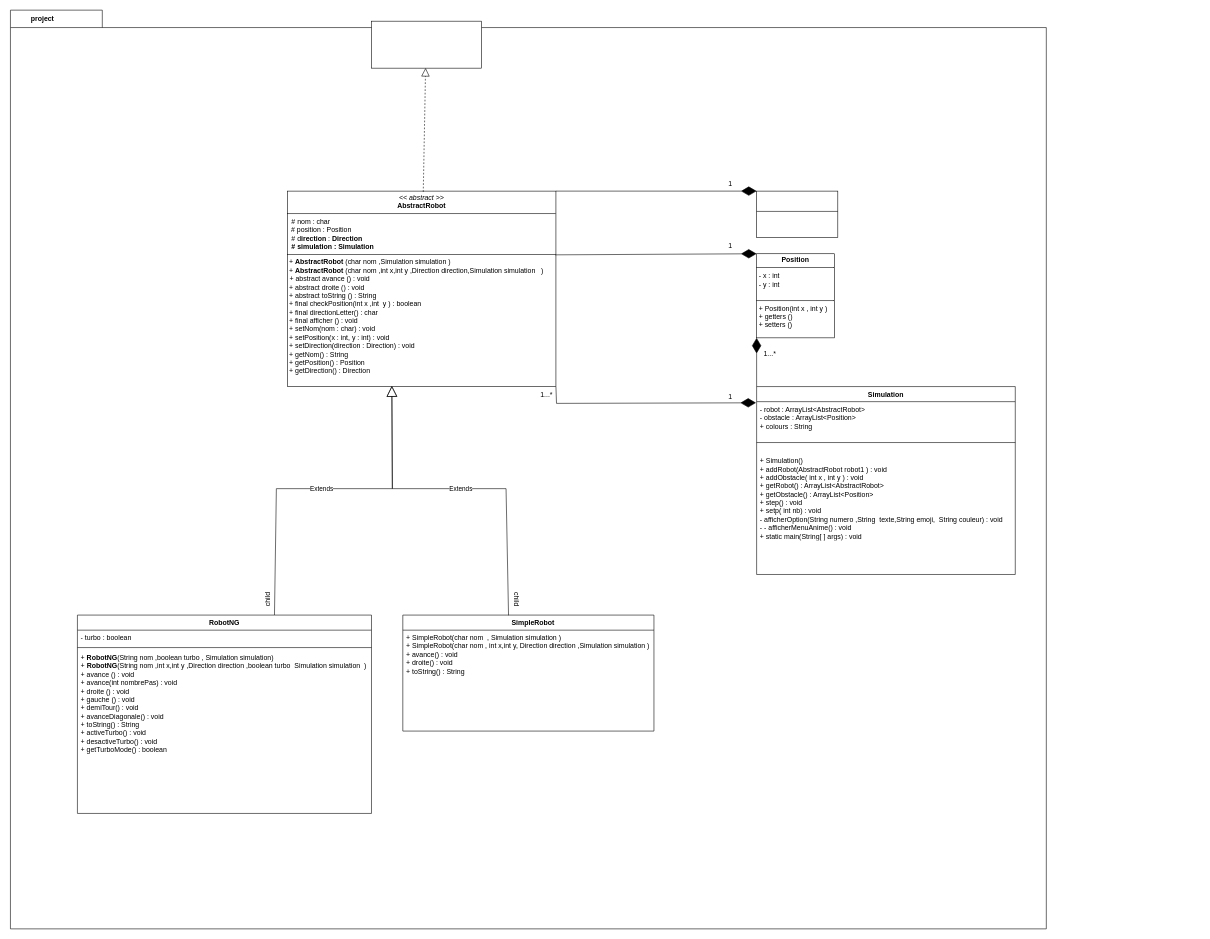
Some shapes in this 1210 by 939 pixel diagram are drawn without their labels. Each missing label, with the centre of its shape:
"<<enumeration>> Direction Nord , Est , Sud , Ouest" goes at point 797,214.
"<<Interface>> Movable + avance() : void + d roite () : void" goes at point 426,44.
